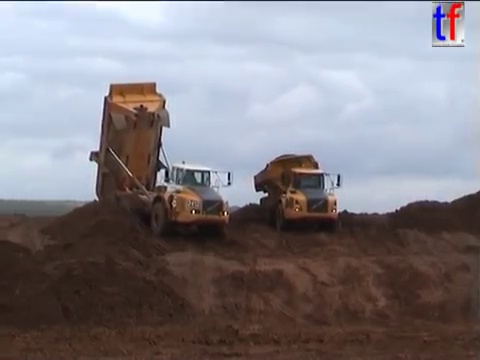truck: (87, 79, 236, 241), (251, 152, 345, 235)
